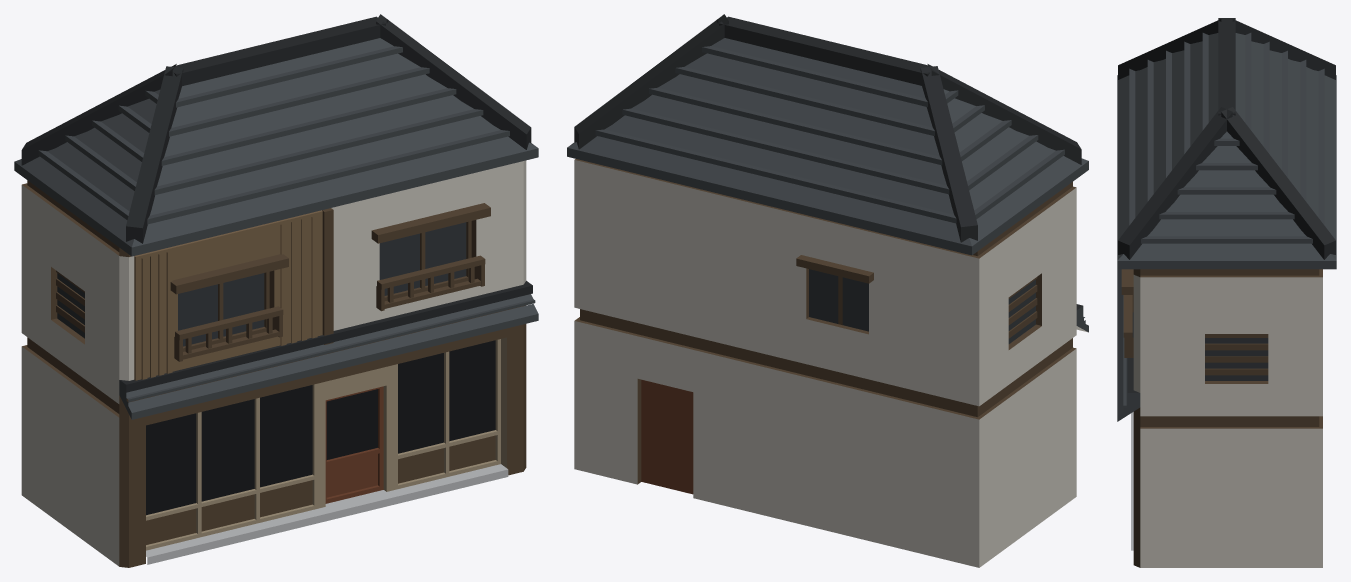
Rendered from wide-shophouse-089f20.glb.
The picture shows the model from 3 angles, left to right: view 1: azimuth 30°, elevation 25°; view 2: azimuth 150°, elevation 25°; view 3: azimuth 270°, elevation 25°; orthographic projection. The views are drawn at different scales.
Parts seen in each view (by area): view 1: shophouse-shell, shop-door-leaf; view 2: shophouse-shell; view 3: shophouse-shell.
Part boxes in pixels (bbox=[...]): shophouse-shell: bbox=[14, 14, 538, 567]; shop-door-leaf: bbox=[325, 386, 383, 503]; shophouse-shell: bbox=[567, 14, 1088, 567]; shophouse-shell: bbox=[1117, 18, 1336, 567].
Bounding box in the file's own units: 8 × 8.28 × 4.
